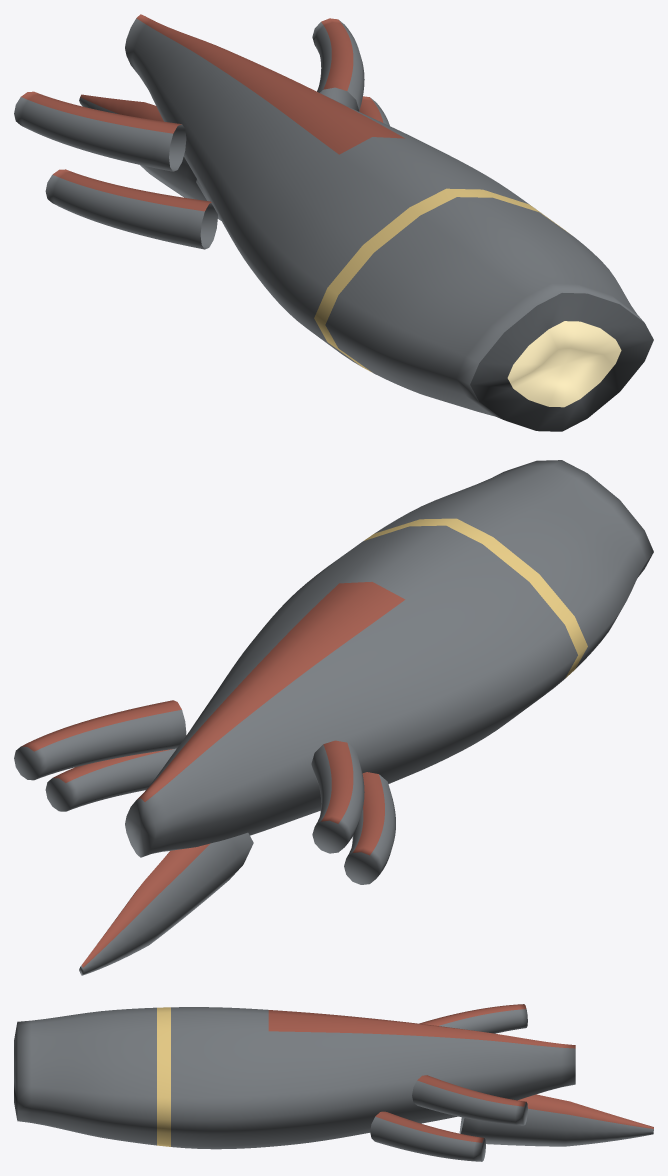
File: redtithe_ca.glb
3 renders of one model, top to bottom at view 1: azimuth 30°, elevation 25°; view 2: azimuth 150°, elevation 25°; view 3: azimuth 270°, elevation 25°, orthographic. The views are drawn at different scales.
Parts seen in each view (by area): view 1: hull_mesh, limb_1_mesh, limb_2_mesh, limb_1_port_mesh, limb_0_mesh; view 2: hull_mesh, limb_0_mesh, limb_1_port_mesh, limb_1_mesh, limb_2_port_mesh, limb_2_mesh; view 3: hull_mesh, limb_0_mesh, limb_1_port_mesh, limb_2_port_mesh, limb_1_mesh.
Part boxes in pixels (box(x1,y1,x2,y2)): hull_mesh: box(125, 14, 653, 431); limb_1_mesh: box(14, 91, 186, 171); limb_2_mesh: box(45, 169, 217, 249); limb_1_port_mesh: box(312, 18, 364, 111); limb_0_mesh: box(79, 94, 221, 220); hull_mesh: box(125, 460, 653, 857); limb_0_mesh: box(79, 832, 253, 975); limb_1_port_mesh: box(14, 700, 186, 780); limb_1_mesh: box(311, 740, 364, 853); limb_2_port_mesh: box(45, 748, 176, 811); limb_2_mesh: box(344, 772, 395, 884); hull_mesh: box(14, 1007, 575, 1149); limb_0_mesh: box(459, 1094, 653, 1146); limb_1_port_mesh: box(412, 1075, 527, 1125); limb_2_port_mesh: box(370, 1111, 485, 1161); limb_1_mesh: box(419, 1004, 527, 1033).
Bounding box in the file's own units: 56.57 × 32.95 × 142.
